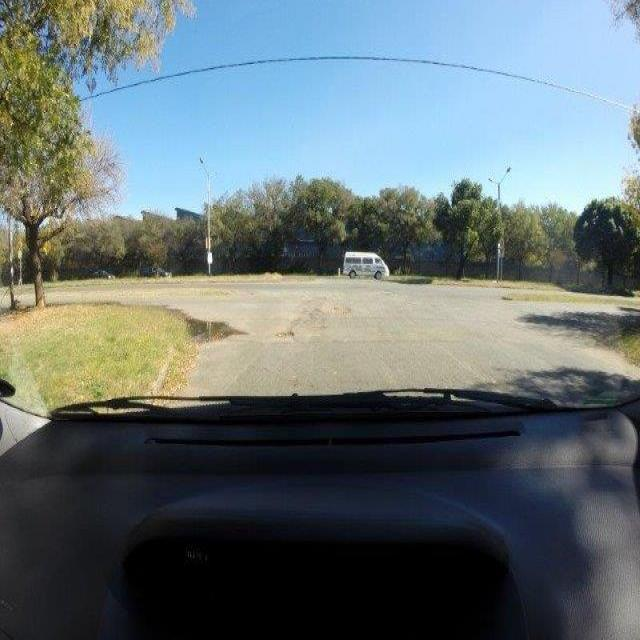lubang: (316, 300, 351, 317), (269, 326, 295, 342)
